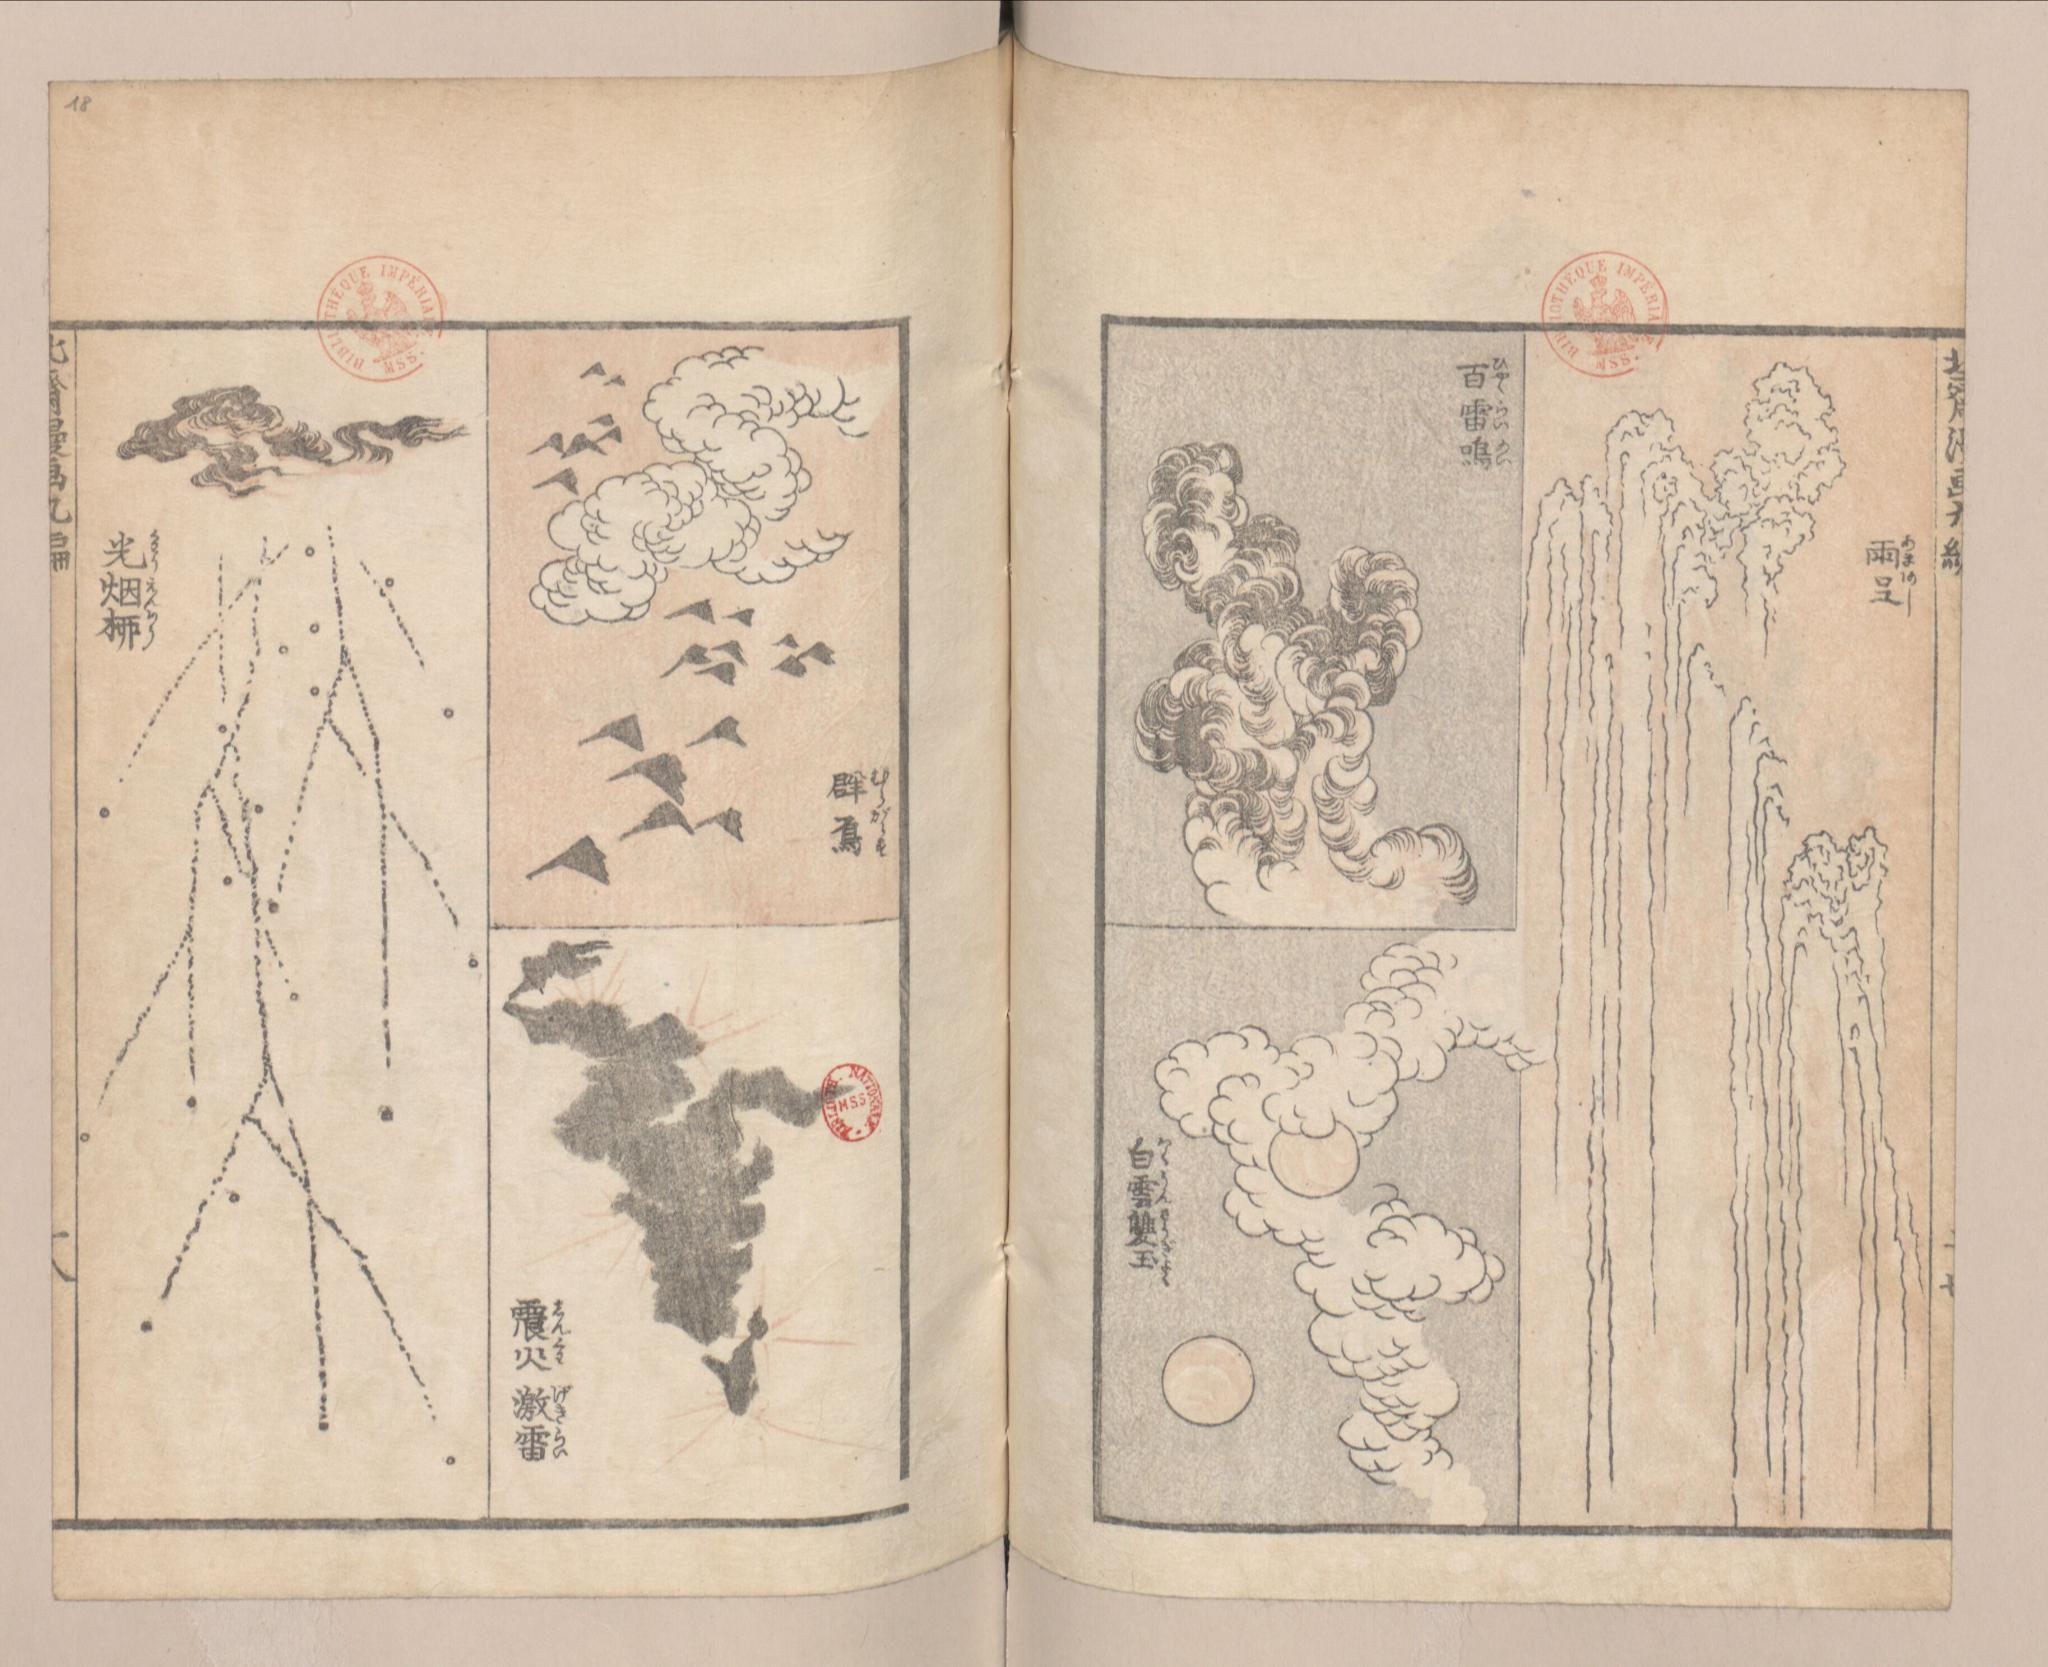MainZone-Character: (828, 806, 893, 859), (97, 527, 163, 572), (507, 1378, 575, 1420), (510, 1424, 573, 1470), (1454, 395, 1517, 437), (1454, 435, 1517, 476), (1868, 565, 1920, 612), (99, 612, 158, 651), (510, 1300, 568, 1339), (95, 575, 158, 609), (1126, 1209, 1177, 1250), (833, 767, 891, 803), (1128, 1249, 1177, 1289), (1128, 1170, 1179, 1209), (1456, 357, 1514, 391), (1128, 1131, 1175, 1170), (1864, 532, 1917, 566), (510, 1340, 568, 1369)
MainZone-Ruby: (868, 806, 890, 857), (548, 1381, 575, 1420), (1898, 570, 1919, 607), (141, 611, 160, 650), (871, 767, 891, 803), (549, 1300, 570, 1335), (549, 1425, 570, 1461), (146, 527, 163, 570), (1898, 534, 1917, 568), (1492, 357, 1510, 390), (1158, 1209, 1174, 1247), (1492, 441, 1514, 466), (1492, 400, 1510, 429), (1155, 1135, 1172, 1165), (1157, 1170, 1172, 1204), (143, 577, 158, 607), (1160, 1252, 1172, 1289), (553, 1339, 570, 1364)
